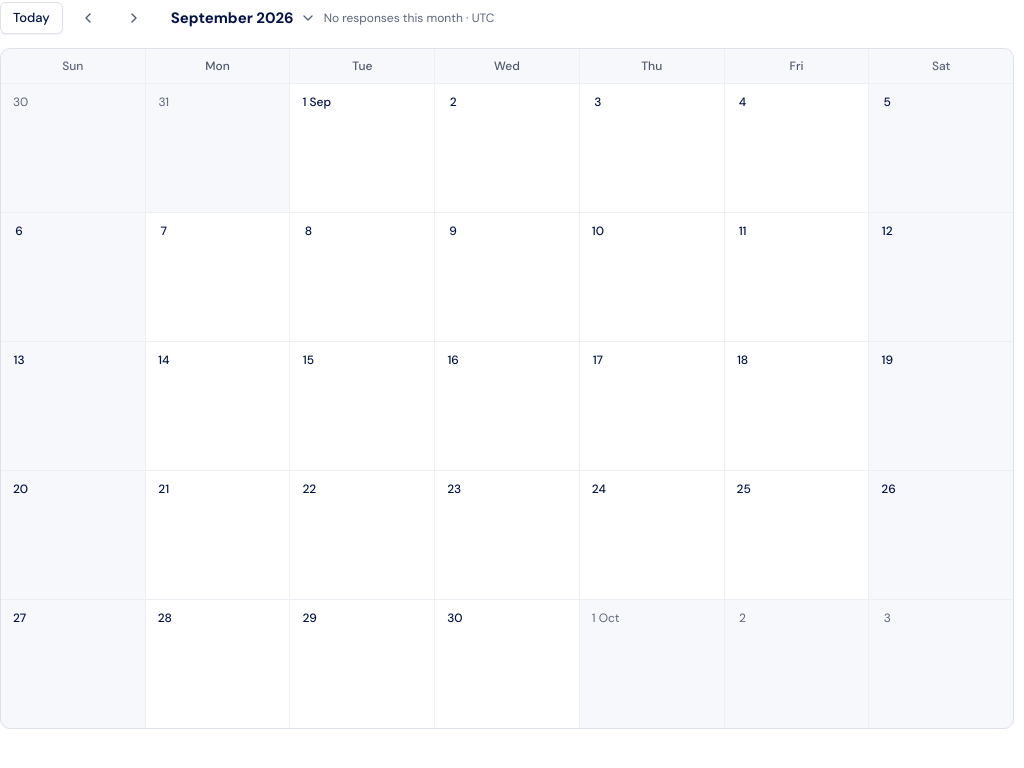
Test: jumping to a month › steps the year first, then picks a month of it
This screenshot has width=1024, height=768.
Click the button "September 2026".
click(243, 18)  # box [163,5,324,31]
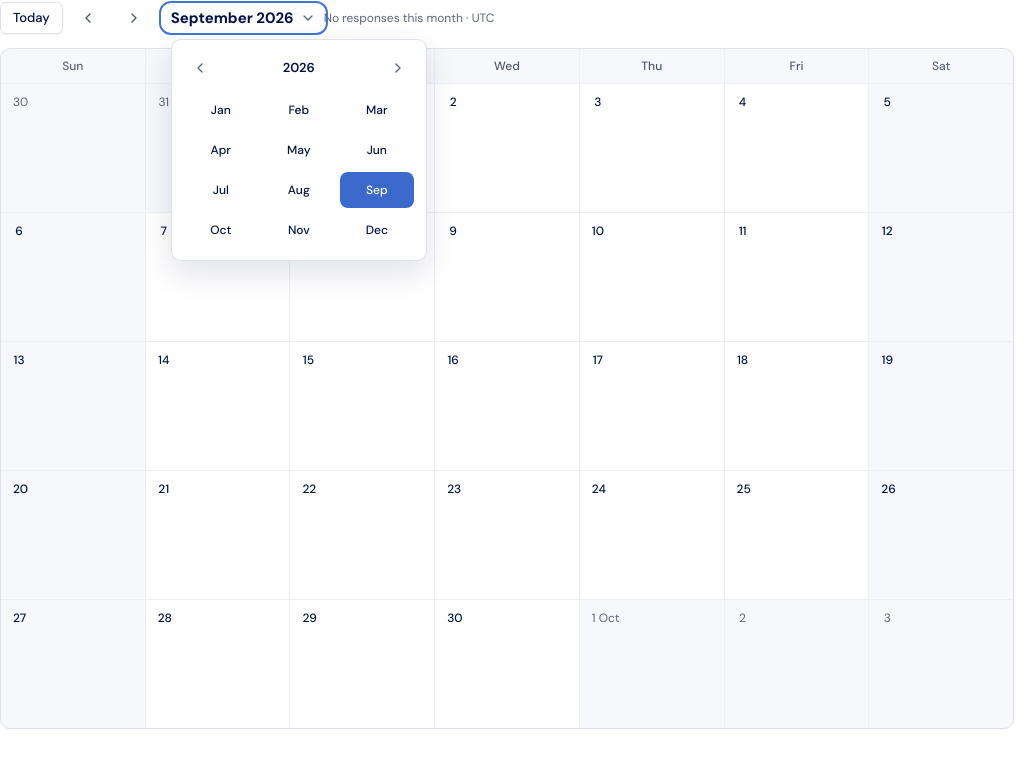
Click the button named "Previous year".
click(200, 68)  # box [184,52,216,84]
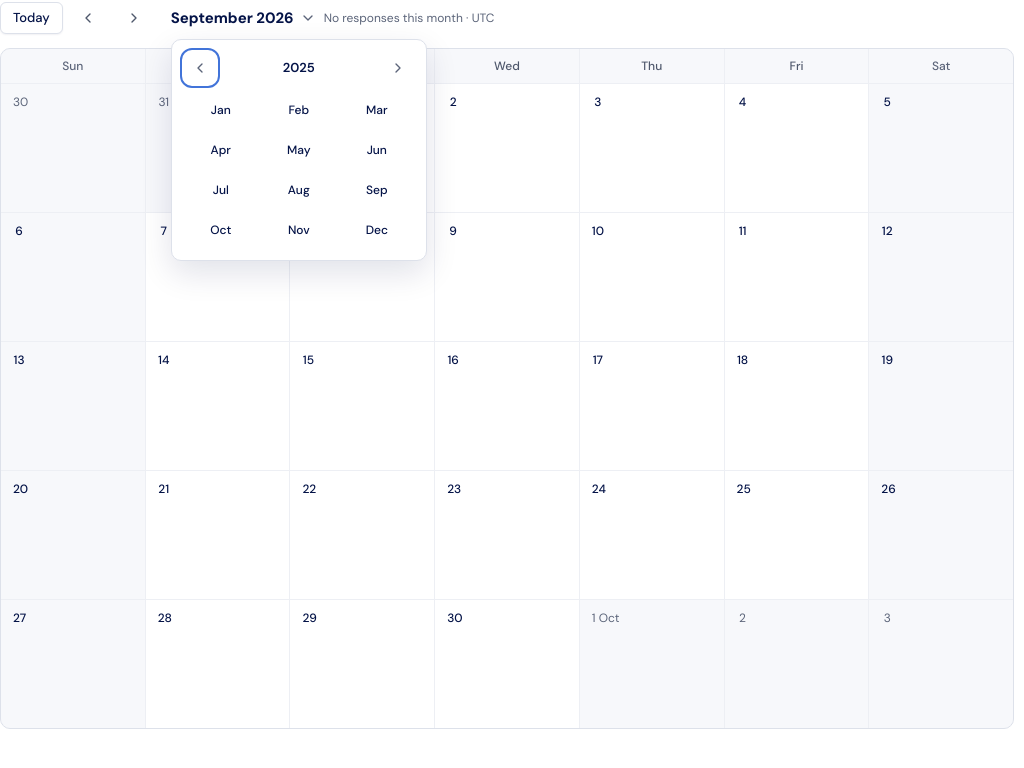
Click the button named "Previous year".
click(200, 68)  # box [184,52,216,84]
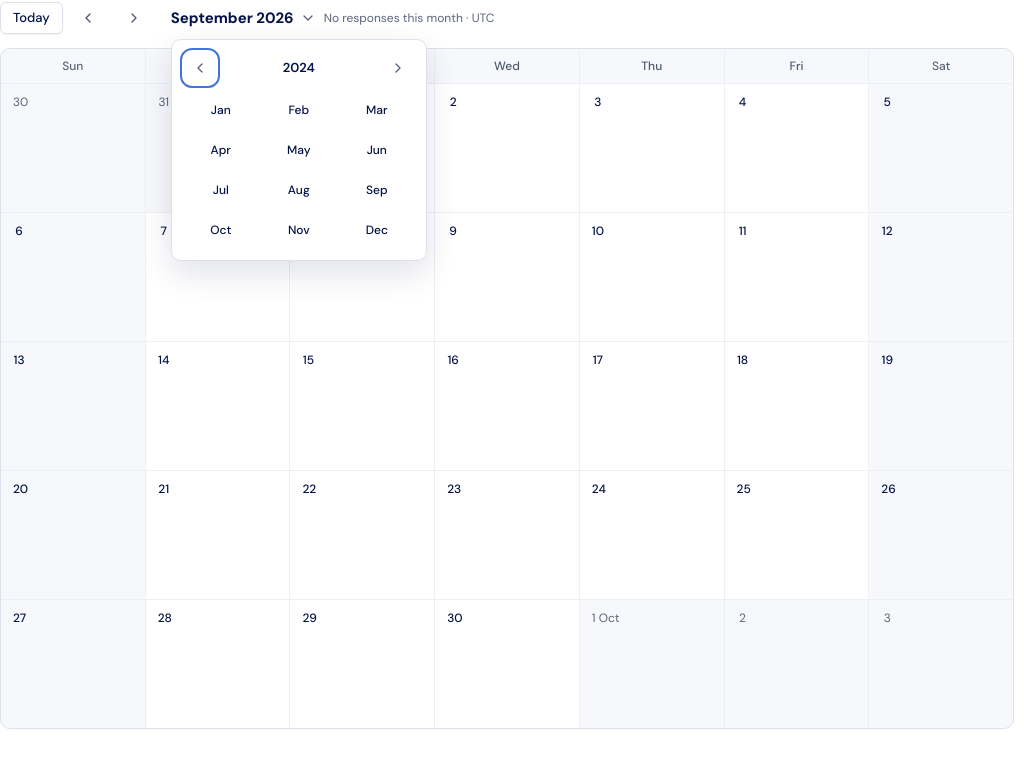
Expected: the text "2024" is shown, [283,58,315,78]
Click the button named "Next year".
click(398, 68)  # box [382,52,414,84]
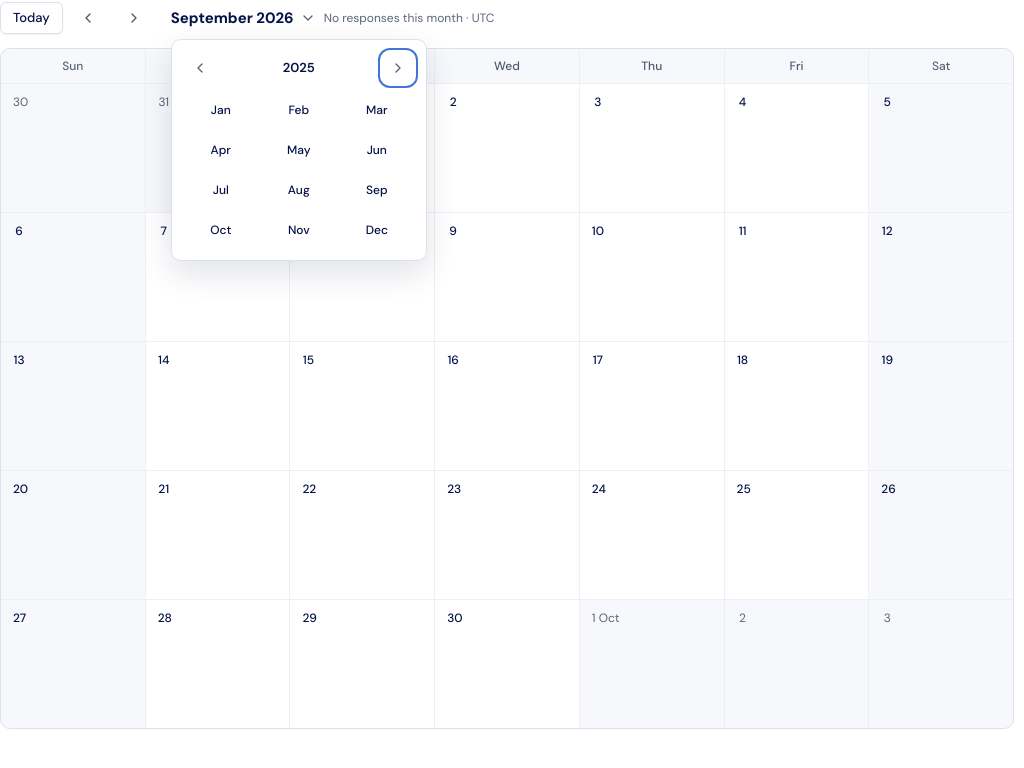
Click the button "Dec".
click(377, 230)  # box [340,212,414,248]
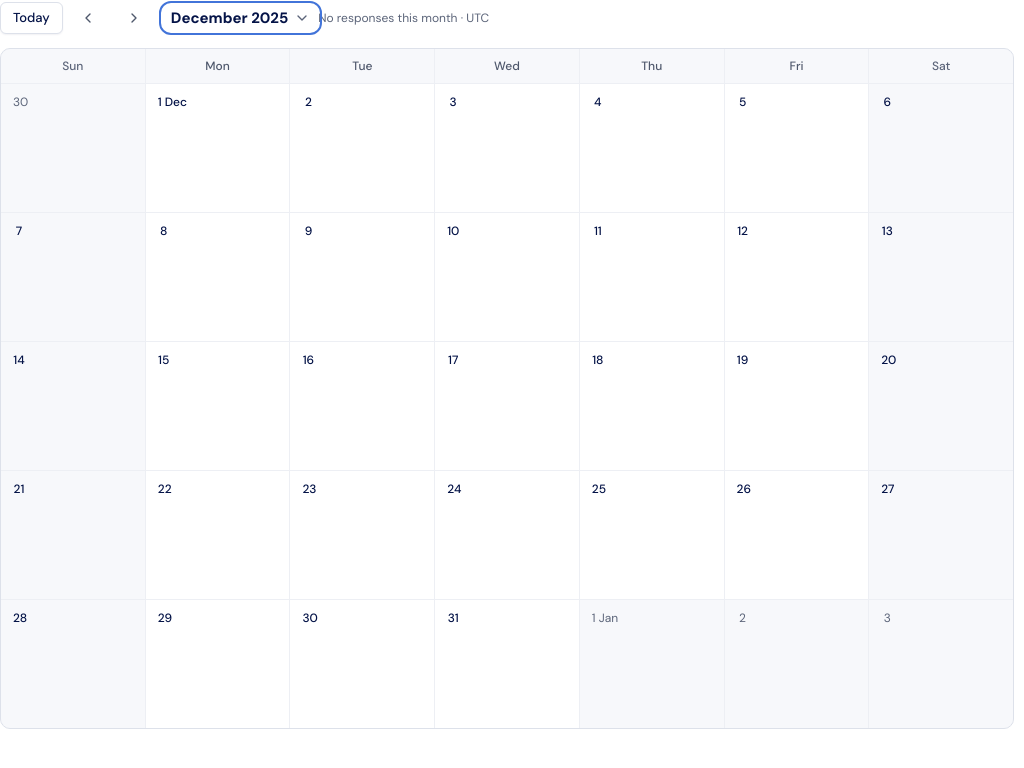
Expected: the heading "December 2025" is shown, [171,5,310,31]
